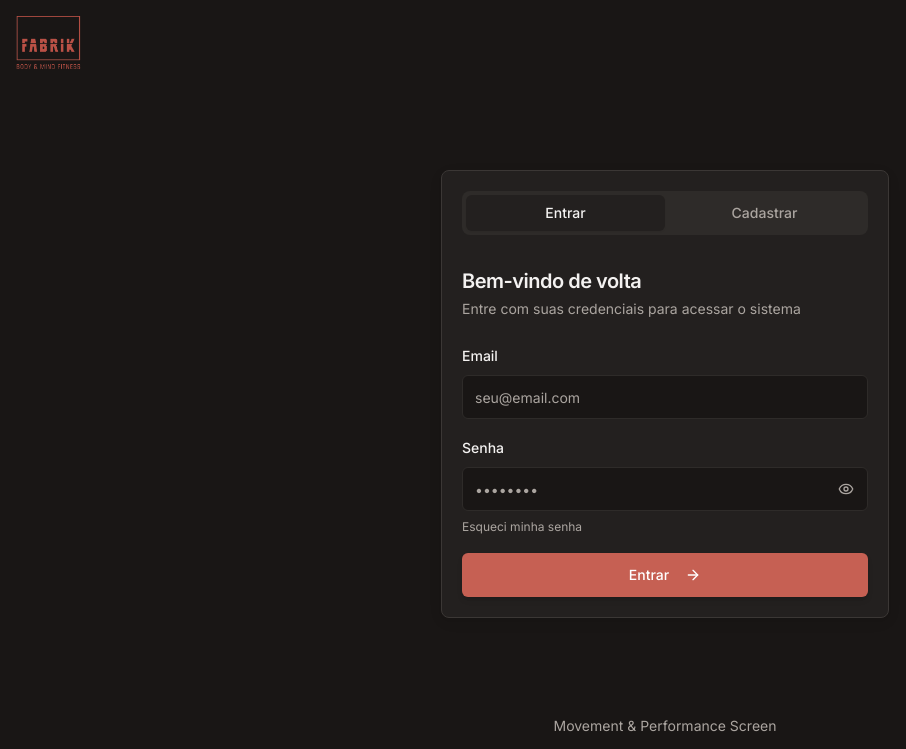
Test: Esqueci minha senha (Auth) › aproveita o e-mail digitado, envia o link e responde igual com ou sem conta
This screenshot has width=906, height=749.
Type "aluno@example.invalid" into the field labelled "Email" at (665, 397), box [462,375,868,419]
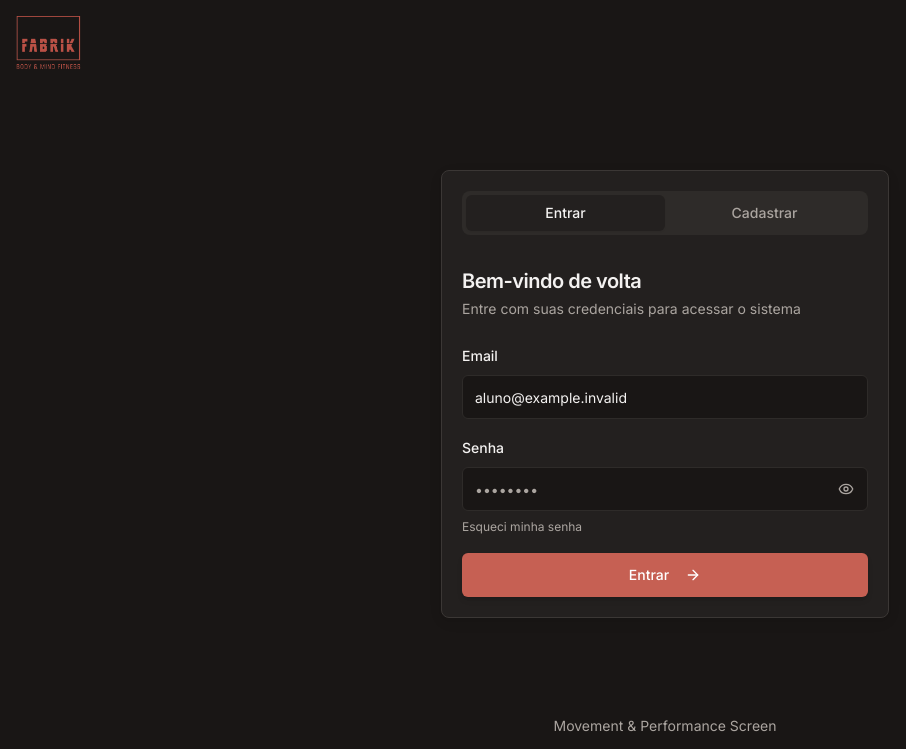
Click the button "Esqueci minha senha" at (522, 527), box [462,519,582,535]
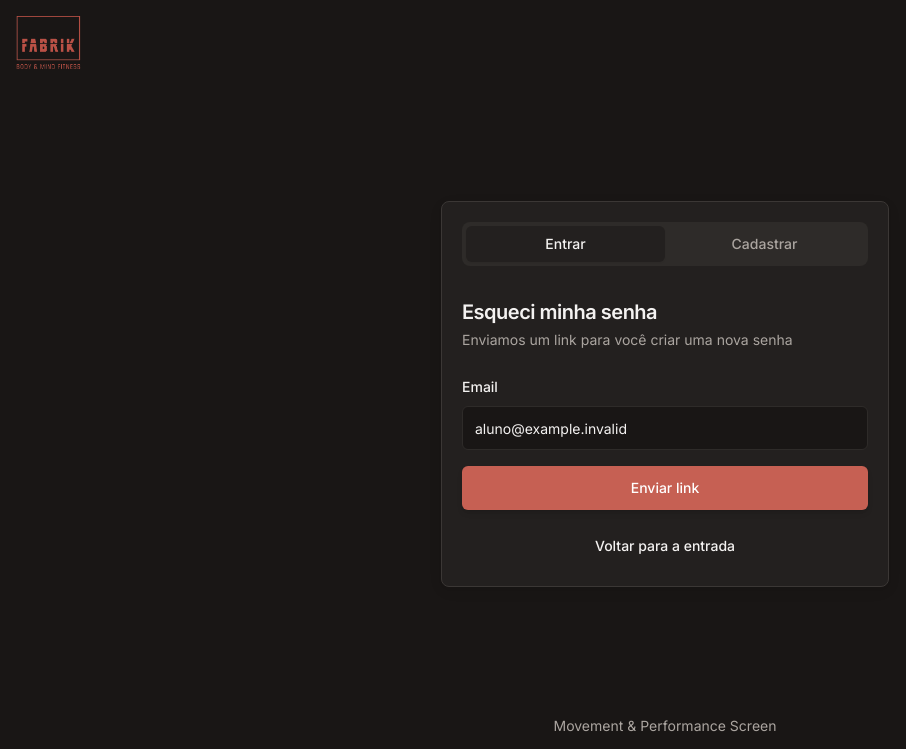
Click the button "Enviar link" at (665, 488), box [462,466,868,510]
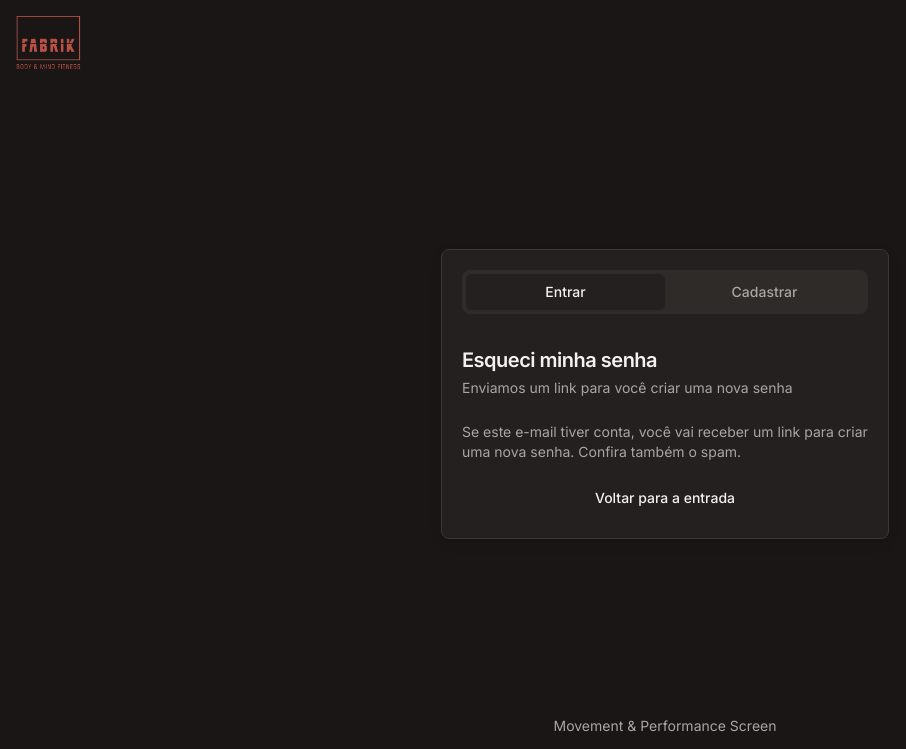
Expected: the text "Se este e-mail tiver conta" is shown, [462,423,868,460]
